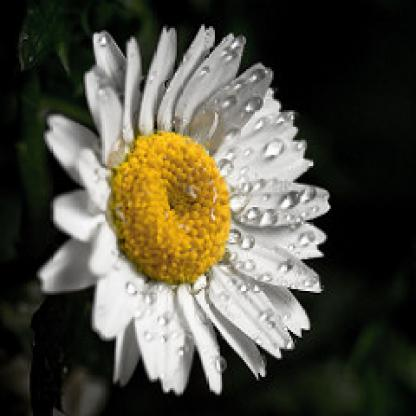ASTER: (37, 29, 334, 393)
